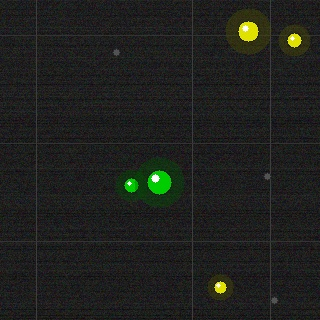green_normal: (145, 168, 173, 196), (122, 176, 140, 194)
yellow_warning: (236, 19, 260, 43), (285, 31, 303, 49), (212, 279, 228, 295)
